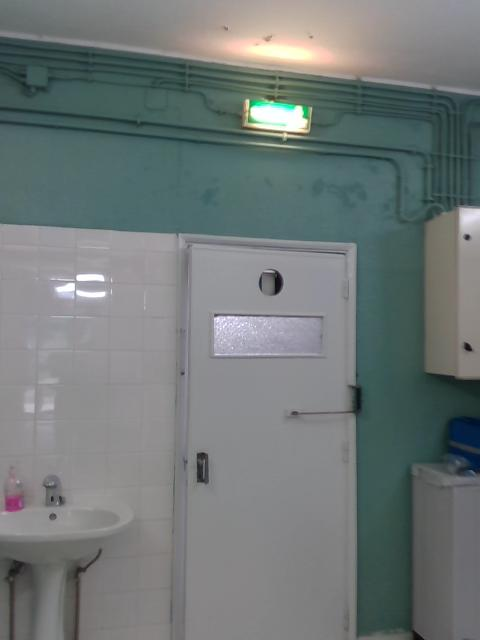closed_door: (176, 232, 354, 638)
